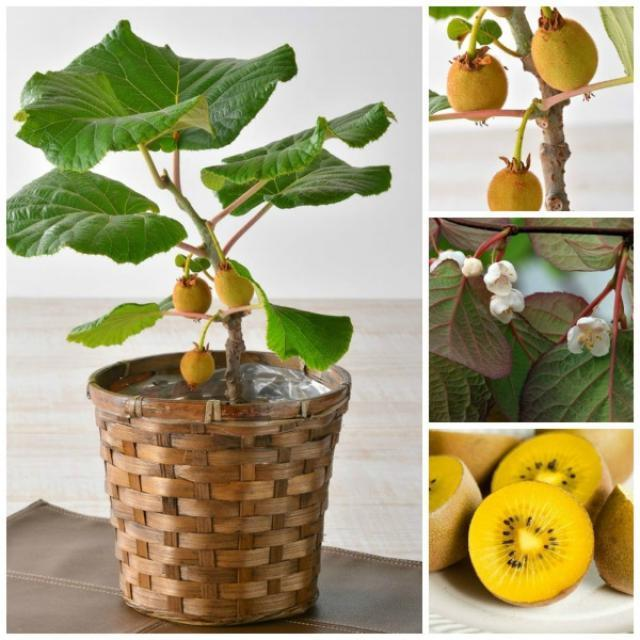kiwi: (530, 18, 596, 92), (447, 53, 508, 122), (488, 169, 541, 210), (215, 265, 254, 311), (172, 276, 212, 318), (181, 348, 216, 386)
